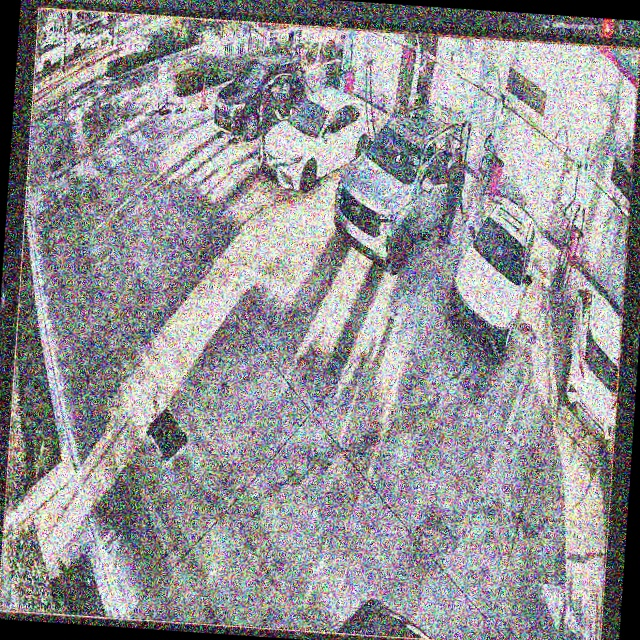Car: (331, 98, 467, 288), (445, 191, 541, 359), (258, 86, 376, 200)
